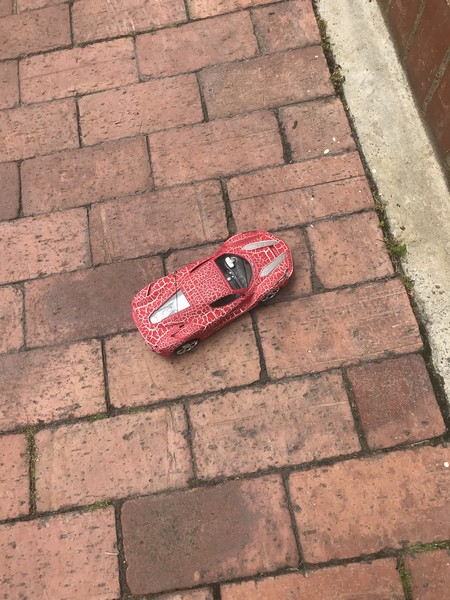RC: (126, 230, 295, 361)
